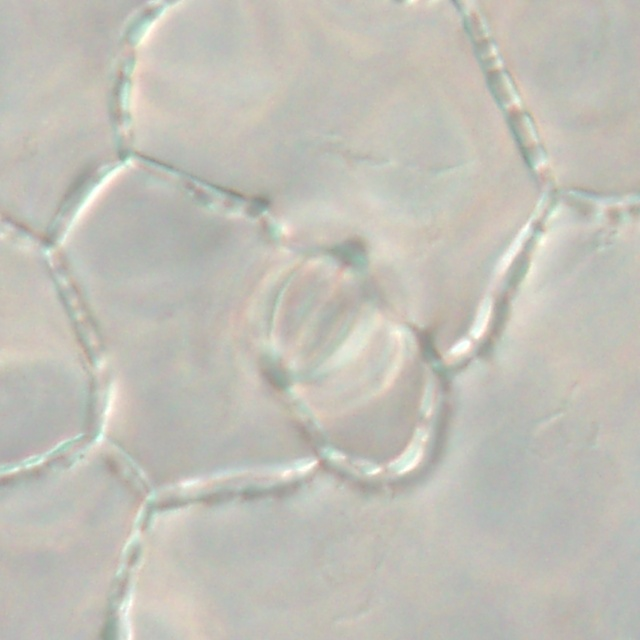center: (281, 270, 351, 362)
stomata-huw1: (237, 226, 404, 412)
